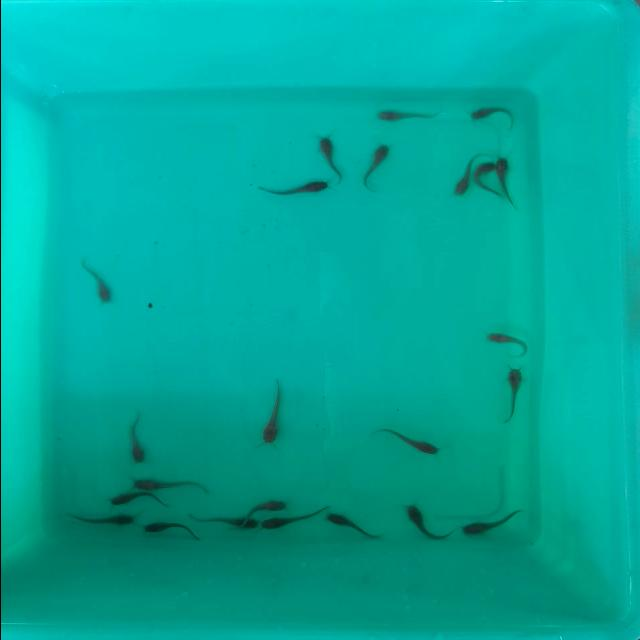lele: (402, 502, 452, 542), (266, 506, 330, 536), (372, 429, 439, 456), (467, 508, 523, 540), (324, 510, 382, 540), (80, 258, 116, 306), (360, 141, 393, 193), (260, 382, 286, 448), (317, 135, 347, 185), (108, 490, 168, 514), (501, 368, 524, 426), (256, 179, 326, 197), (494, 159, 516, 215), (132, 479, 212, 493), (450, 148, 472, 198), (484, 332, 528, 357), (474, 157, 496, 205), (190, 515, 260, 530), (245, 498, 288, 520), (126, 412, 144, 464), (142, 524, 198, 540), (70, 513, 134, 527), (470, 107, 514, 125), (375, 110, 437, 122)
